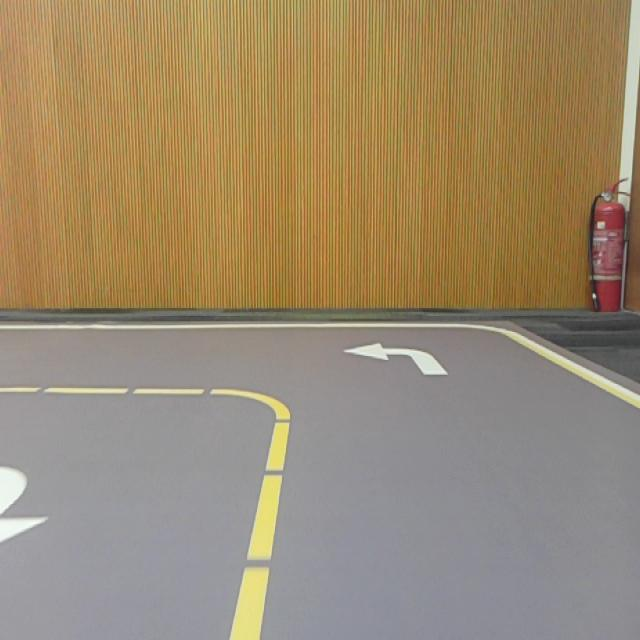left_lane: (230, 414, 292, 639)
right_lane: (500, 330, 640, 408)
